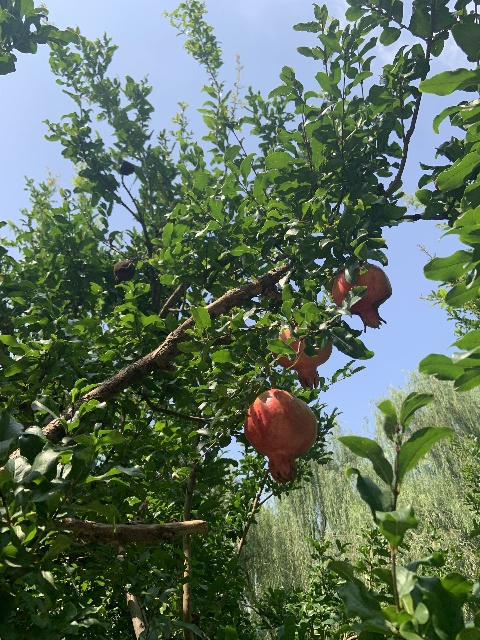ripe: (244, 388, 317, 484), (332, 264, 391, 333), (271, 328, 333, 390)
